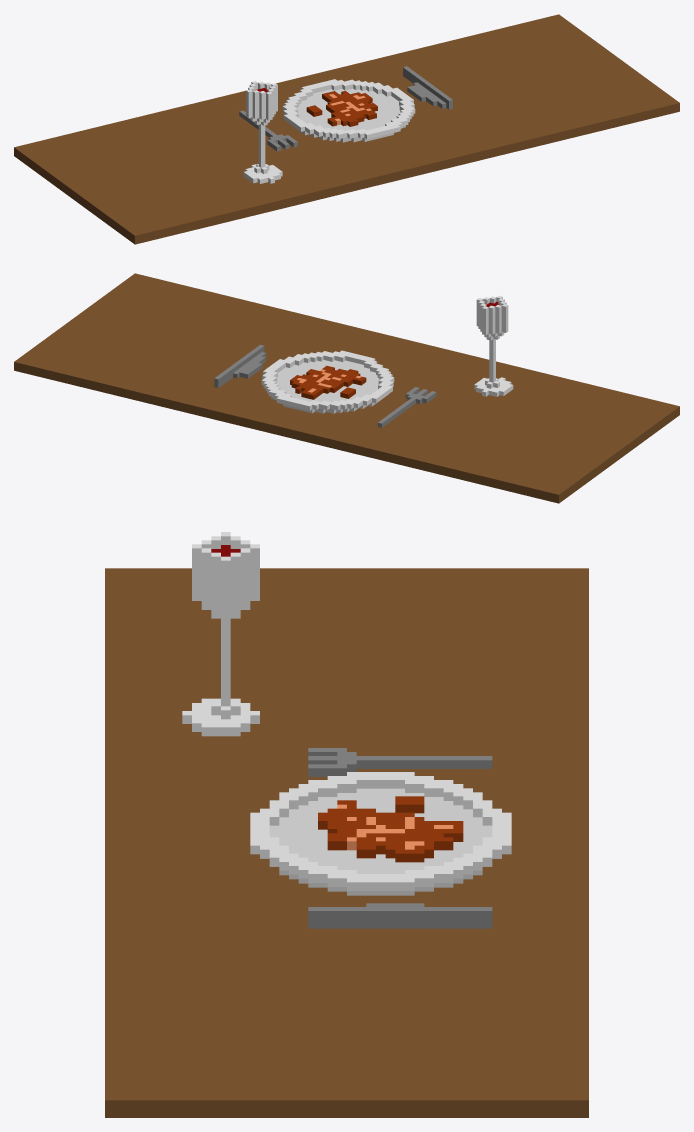
The model's file is newbeeftable lose.fbx.
3 renders of one model, top to bottom at view 1: azimuth 30°, elevation 25°; view 2: azimuth 150°, elevation 25°; view 3: azimuth 270°, elevation 25°, orthographic. The views are drawn at different scales.
Visible parts, largest first — view 1: Polygon, Polygon_1; view 2: Polygon, Polygon_1; view 3: Polygon, Polygon_1.
Boxes of the visible parts, <box> form: Polygon: <box>14,14,679,244</box>; Polygon_1: <box>243,81,282,183</box>; Polygon: <box>14,273,679,503</box>; Polygon_1: <box>474,295,513,396</box>; Polygon: <box>105,568,588,1117</box>; Polygon_1: <box>182,532,259,736</box>.
Size of the model in its own units: 13 by 2.2 by 5.
2 materials, 2 textured.
